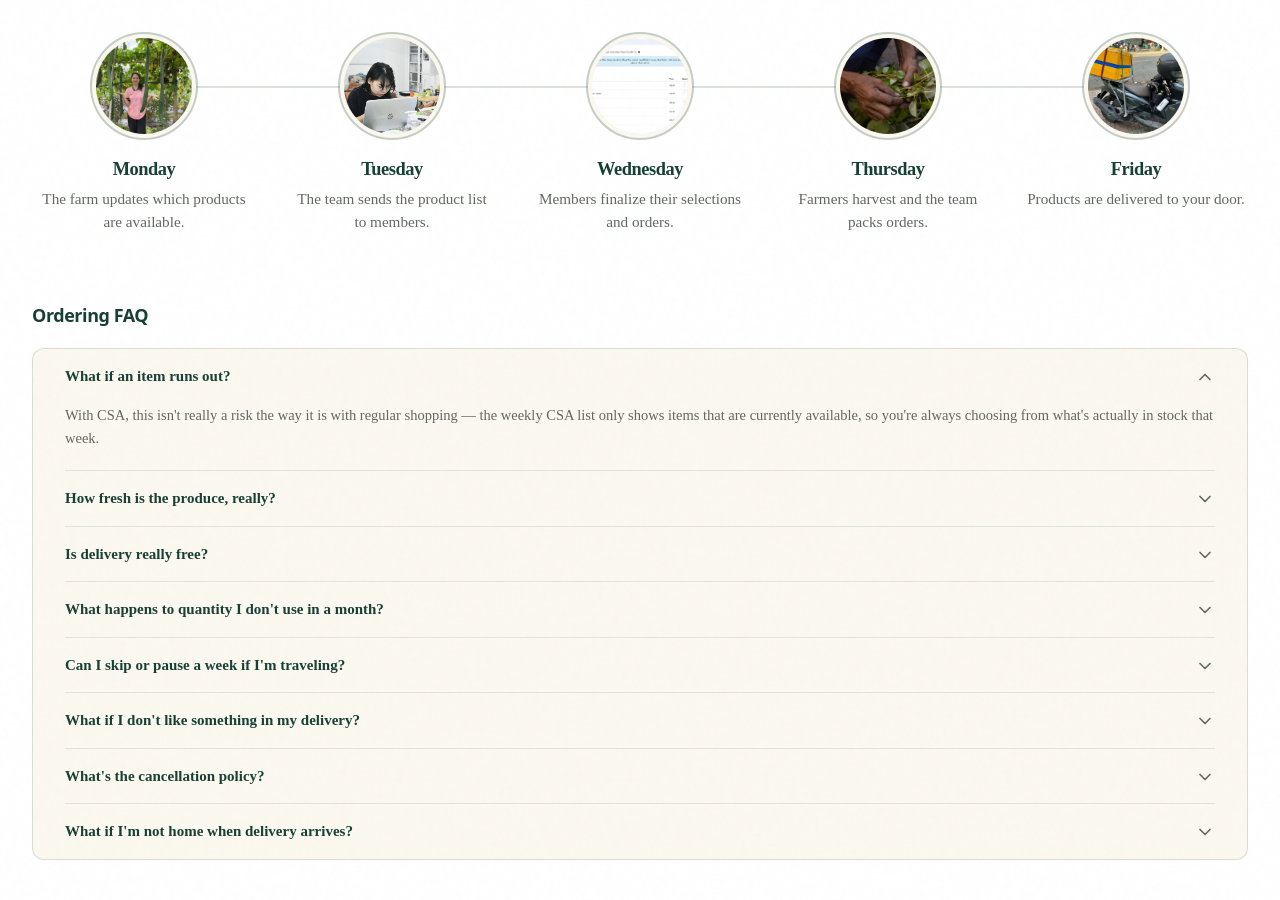
public CSA Membership › renders all en CSA FAQ questions and answers with an accessible accordion
The image size is (1280, 900).
(page scrolled)
expect the heading "Ordering FAQ" is shown: met, box x1=32 y1=303 x2=148 y2=327
Click the button "How fresh is the produce, really?": [170, 498] box x1=65 y1=471 x2=1215 y2=526
(page scrolled)
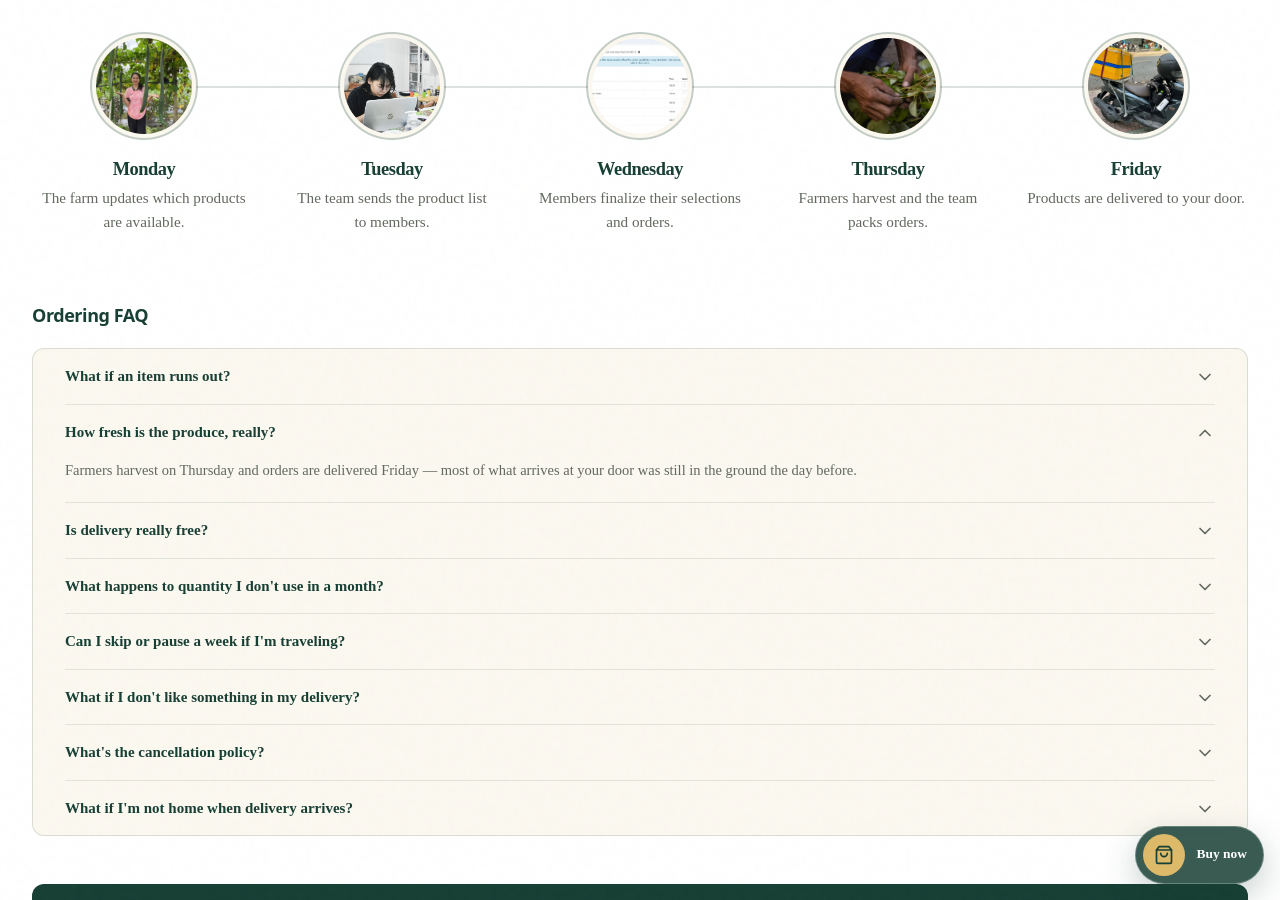
expect the button "What if an item runs out?" is collapsed: met, box x1=65 y1=349 x2=1215 y2=404
expect the button "How fresh is the produce, really?" is expanded: met, box x1=65 y1=405 x2=1215 y2=459
